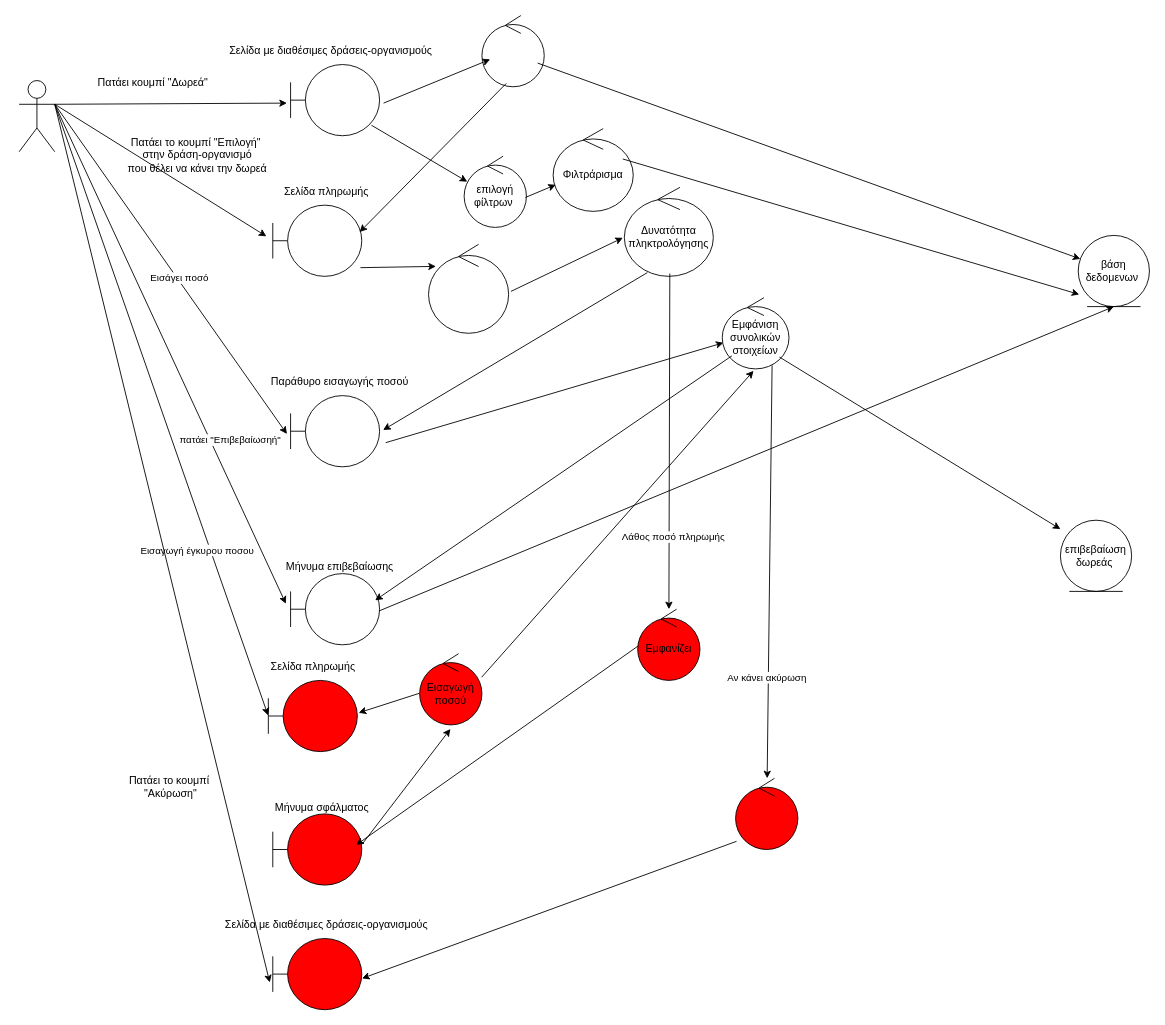
Image size: 1165x1025. Some labels were removed from this diagram. Each missing label, with the centre of its shape:
"εμφάνιση διαθέσιμων δράσεων" belongs at pixel 512 51.
"Εμφάνιση τρόπου πληρωμής" belongs at pixel 468 288.
"Επιστρέφει" belongs at pixel 766 813.
"Χρήστης" belongs at pixel 36 116.
